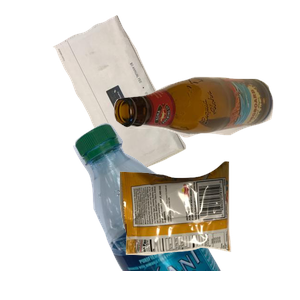glass: (111, 74, 300, 204)
paper: (51, 13, 230, 186)
plastic: (71, 120, 300, 300)
trash: (117, 159, 300, 300)
